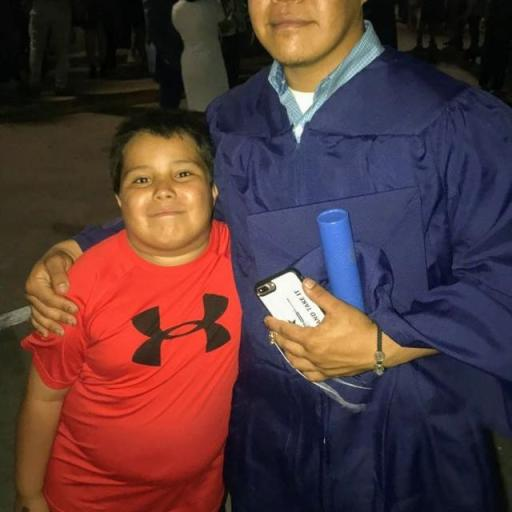Under Armour: (127, 290, 233, 367)
